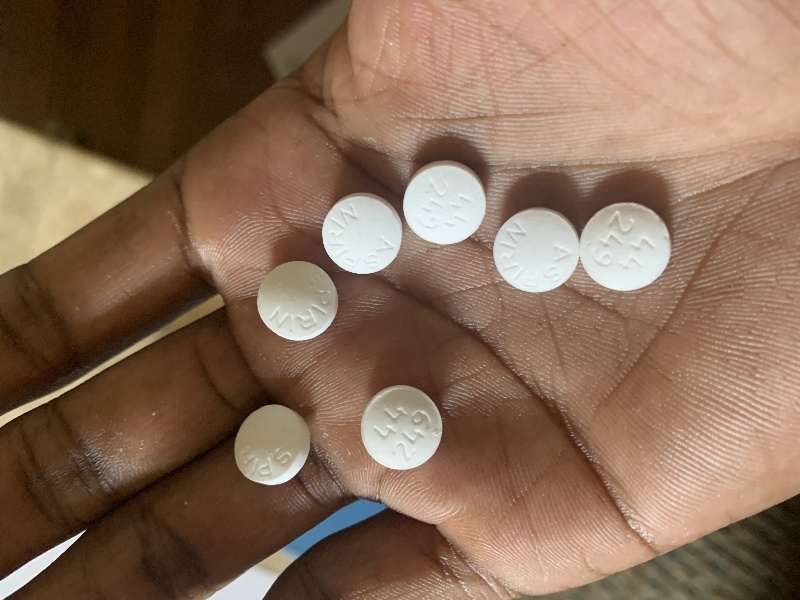Aspirin: (357, 379, 448, 473), (492, 204, 583, 298), (580, 201, 672, 292), (402, 154, 489, 248), (249, 259, 340, 345), (228, 402, 316, 489), (319, 189, 404, 277)
